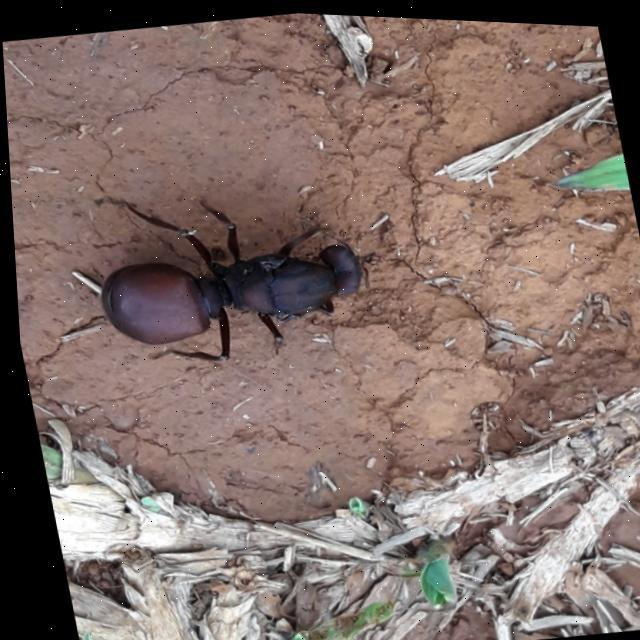Alive-Female-Dealate: (78, 167, 375, 381)
